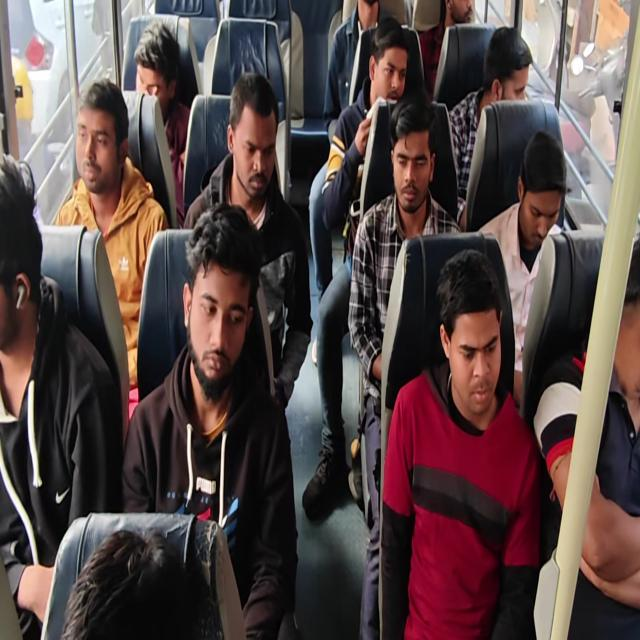person: (1, 2, 638, 638), (120, 201, 298, 638), (379, 247, 542, 638), (347, 92, 463, 638), (0, 152, 122, 638), (302, 17, 410, 517), (182, 71, 313, 411), (533, 232, 639, 638), (50, 78, 169, 402), (477, 128, 567, 408), (321, 17, 409, 252), (61, 526, 222, 639), (448, 25, 533, 228), (323, 0, 406, 144), (133, 21, 190, 228), (418, 0, 475, 98)
